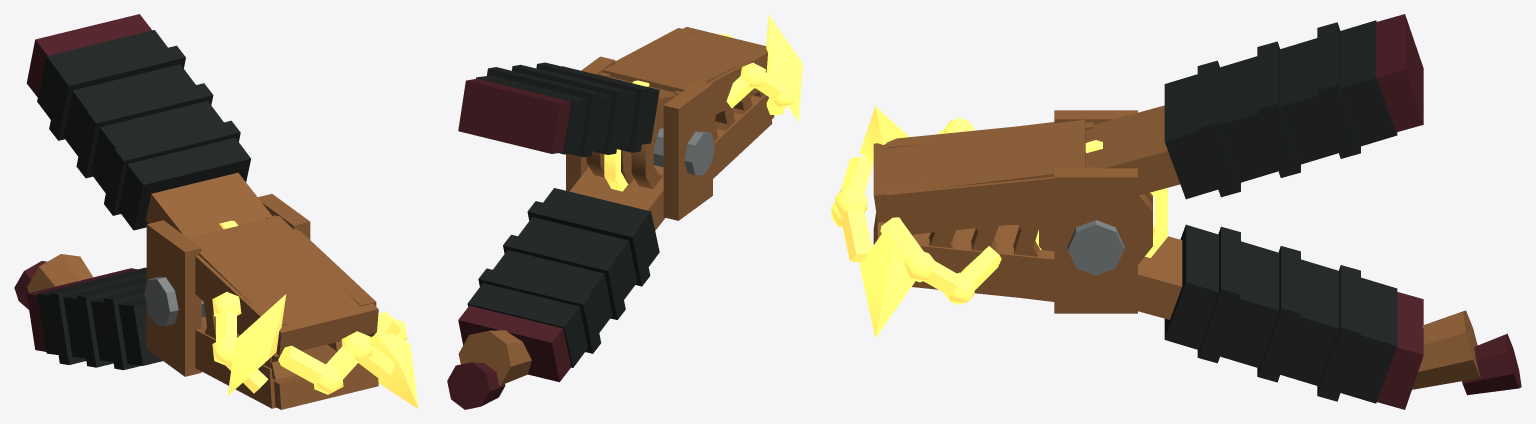
Rendered from ally_husk_clip.glb.
3 renders of one model, left to right at view 1: azimuth 30°, elevation 25°; view 2: azimuth 150°, elevation 25°; view 3: azimuth 270°, elevation 25°, orthographic. The views are drawn at different scales.
Visible parts, largest first — view 1: ClipMesh; view 2: ClipMesh; view 3: ClipMesh.
Boxes of the visible parts, left/top/right/bottom form: ClipMesh: left=14, top=14, right=418, bottom=409; ClipMesh: left=447, top=14, right=802, bottom=409; ClipMesh: left=831, top=14, right=1521, bottom=409.
Size of the model in its own units: 0.2713 by 0.4413 by 0.7837.
